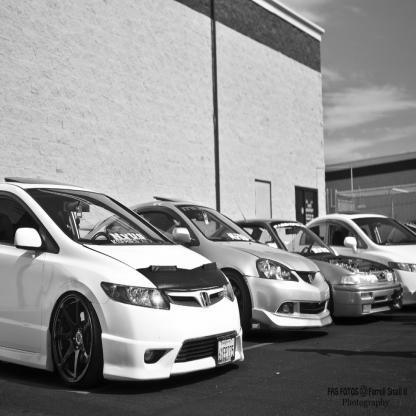car: (1, 173, 240, 416), (132, 188, 346, 336), (255, 207, 410, 321)
